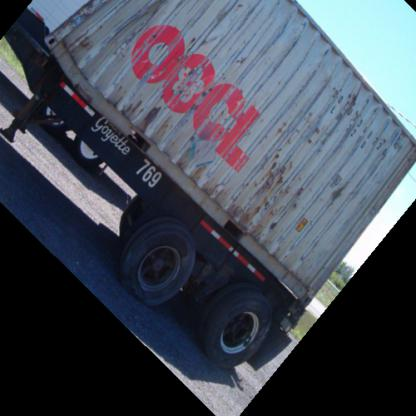Damage: (88, 10, 218, 182), (244, 98, 388, 228)
